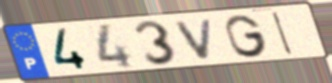3: (134, 19, 179, 67)
4: (95, 22, 137, 70), (52, 26, 89, 73)
G: (222, 13, 270, 59)
I: (270, 10, 295, 57)
V: (173, 16, 216, 61)
